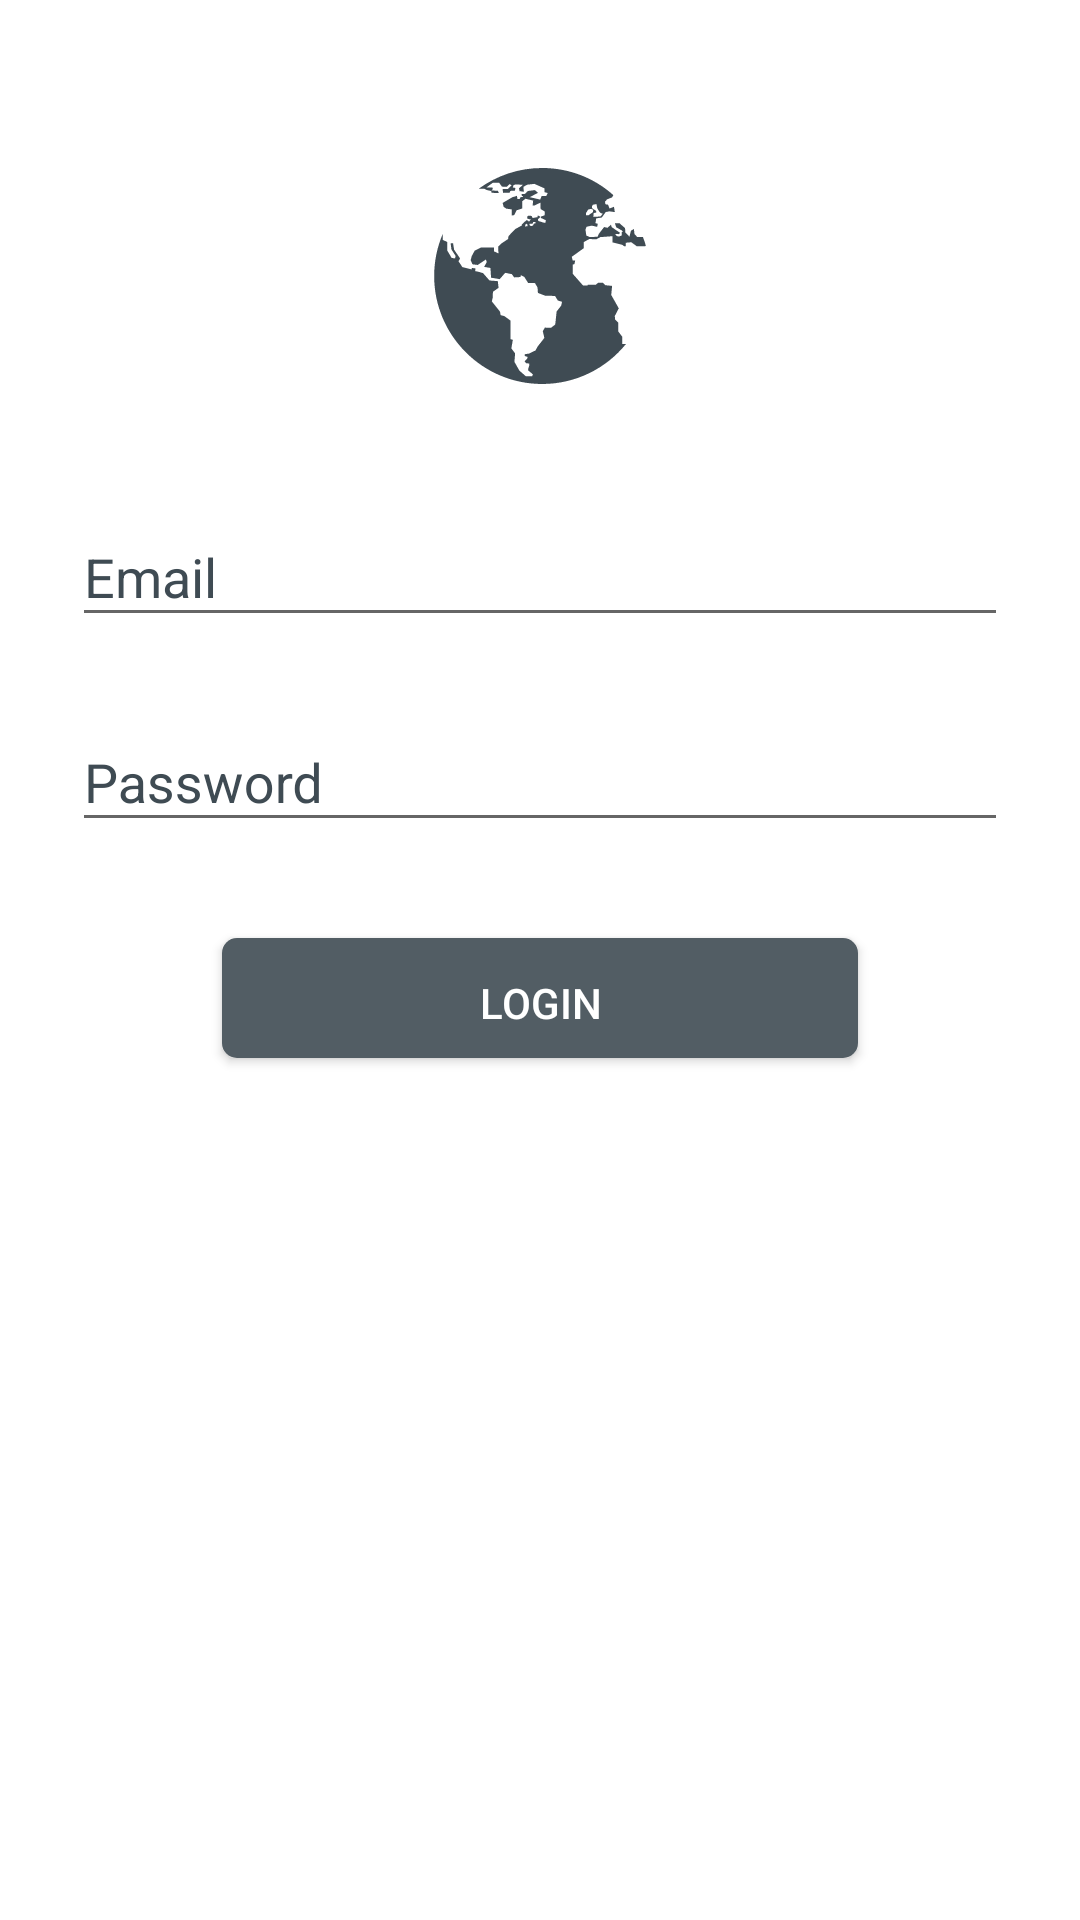

Icon bounding boxes for this 1080w x 1920h phone screenshot, format (x1, y1, x2, y2):
earth: (434, 168, 646, 384)
